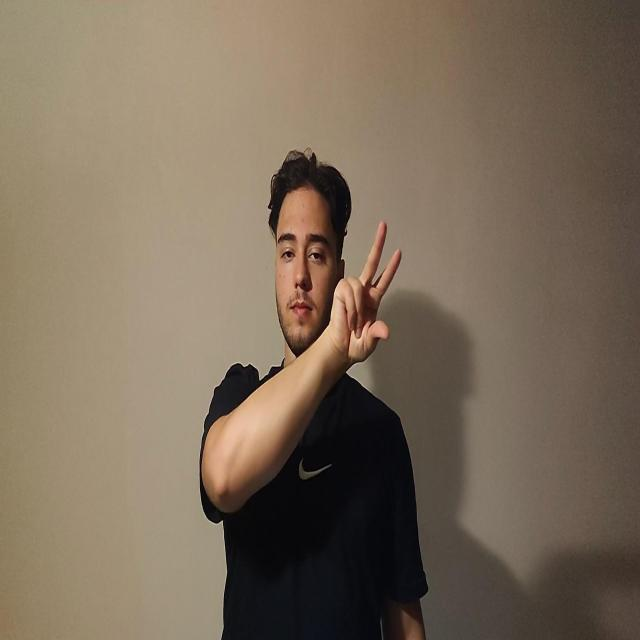no: (328, 219, 402, 370)
